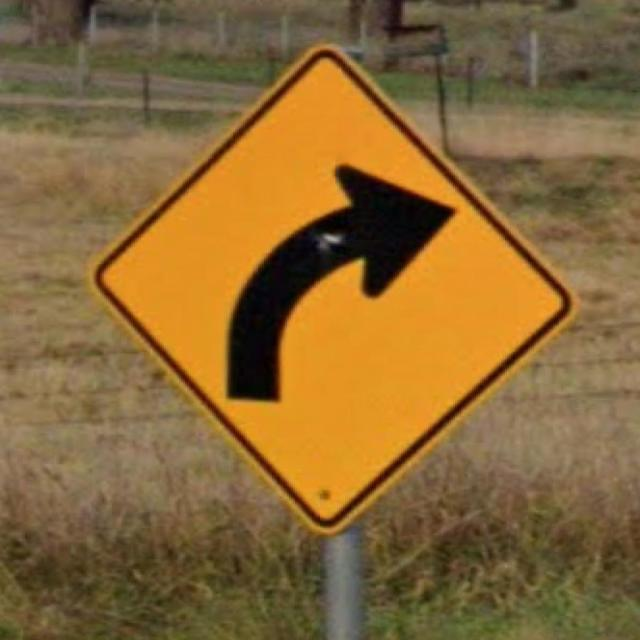Tikungan Ke Kanan: (79, 35, 582, 538)
